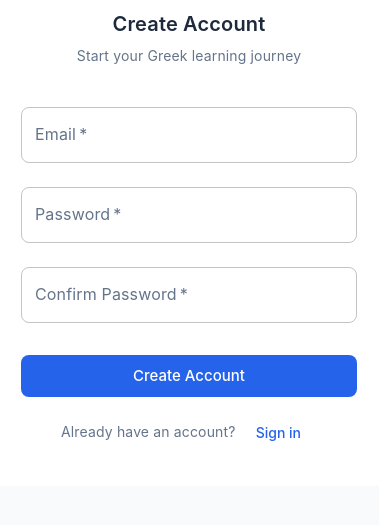
Test: RegisterForm Component › clears error when form is resubmitted
First submission with mismatched passwords
In the field labelled "Email *": point(189, 135) [21,107,357,163], type "test@example.com"
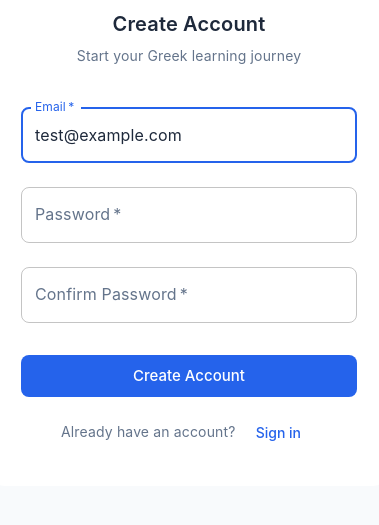
In the password field labelled "Password *": point(189, 215) [21,187,357,243], type "password123"
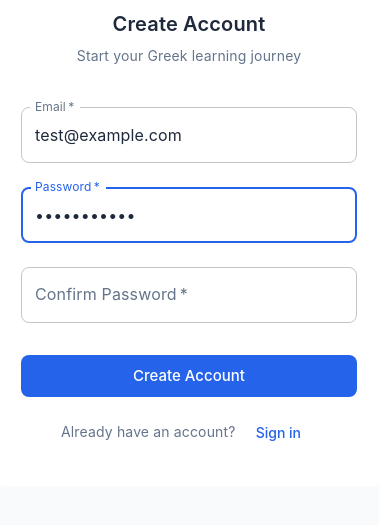
In the password field labelled "Confirm Password *": point(189, 295) [21,267,357,323], type "different"
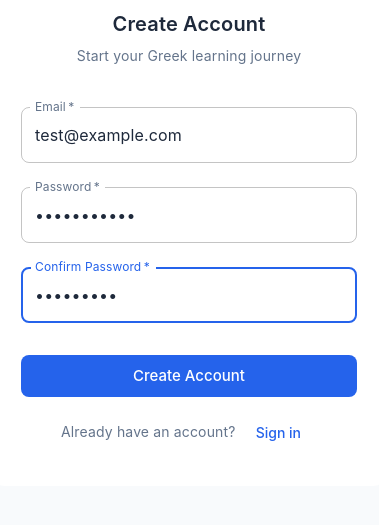
Click the button "Create Account": point(189, 376) [21,355,357,397]
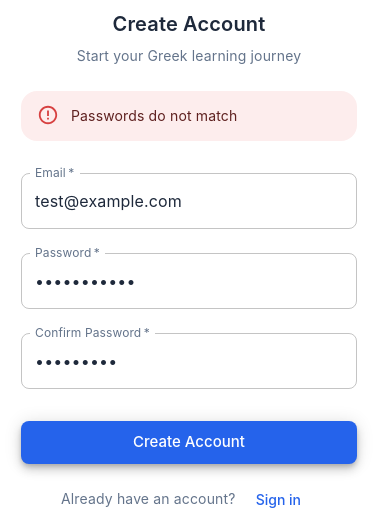
Expected: the text "Passwords do not match" is shown, [71,107,237,124]
Fix the confirm password and resubmit
In the password field labelled "Confirm Password *": point(189, 362) [21,334,357,390], type "password123"
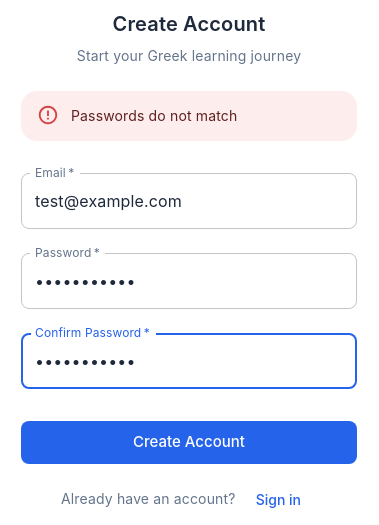
Click the button "Create Account": point(189, 443) [21,422,357,464]
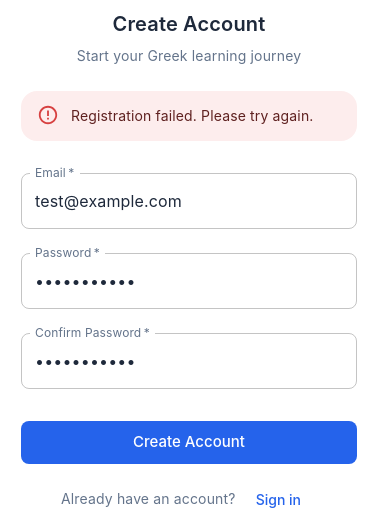
Expected: the text "Passwords do not match" is gone
